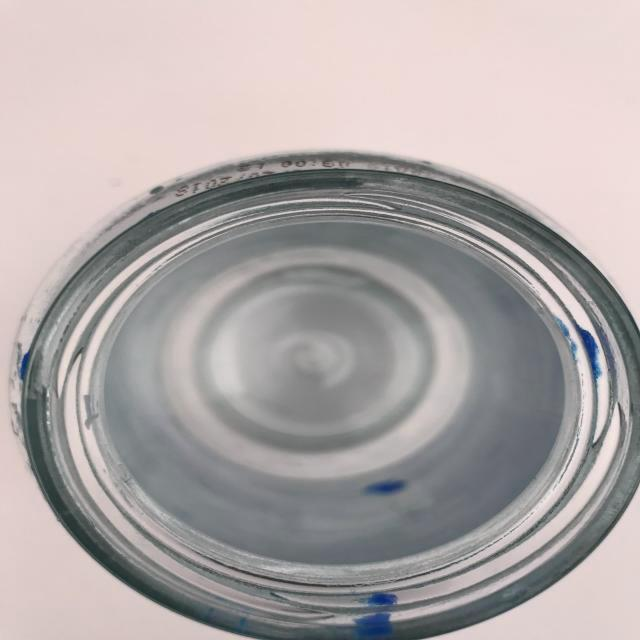glass: (0, 127, 640, 640)
